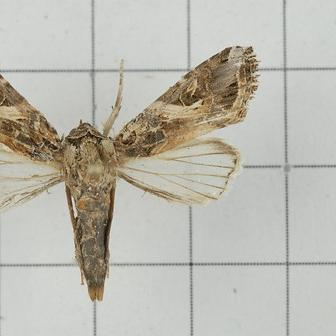Spodoptera litura: (1, 46, 260, 302)
